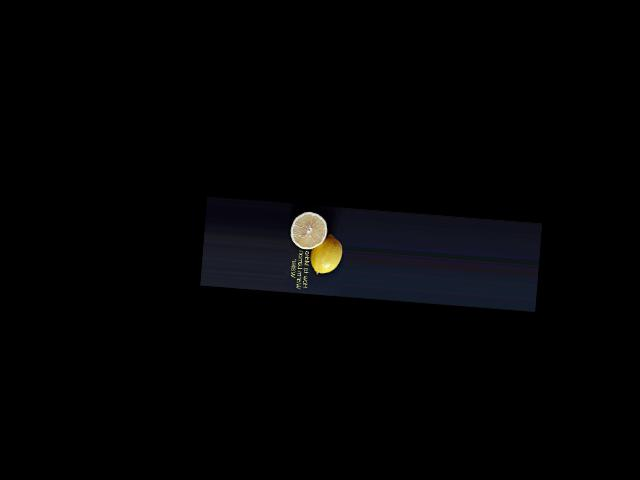lemon: (311, 233, 344, 277)
